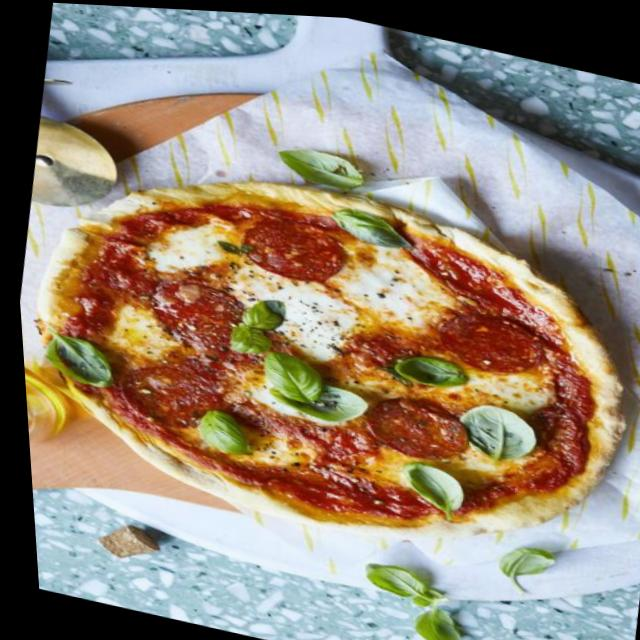pizza: (6, 124, 640, 589)
